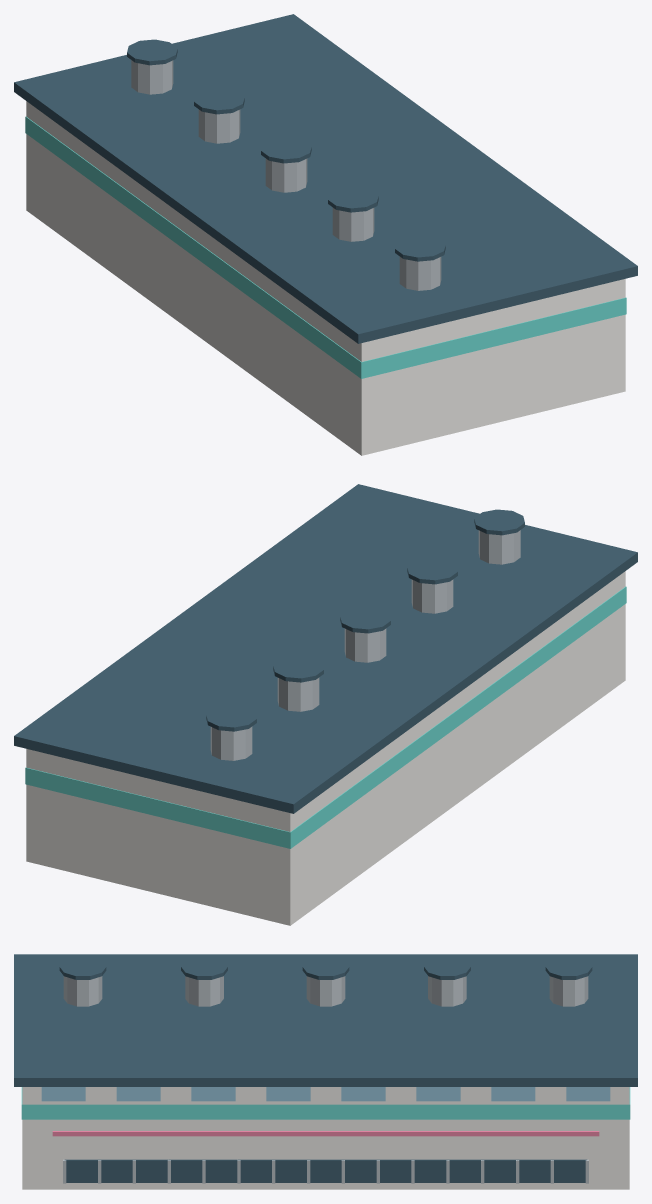
File: WaveMachineHouse.fbx
3 renders of one model, top to bottom at view 1: azimuth 30°, elevation 25°; view 2: azimuth 150°, elevation 25°; view 3: azimuth 270°, elevation 25°, orthographic. The views are drawn at different scales.
Parts seen in each view (by area): view 1: WaveMachineHouse; view 2: WaveMachineHouse; view 3: WaveMachineHouse.
Part boxes in pixels (box(x1,y1,x2,y2)): WaveMachineHouse: box(14, 14, 637, 455); WaveMachineHouse: box(14, 484, 637, 925); WaveMachineHouse: box(14, 954, 637, 1189).
Bounding box in the file's own units: 10.6 × 5.88 × 22.6.
